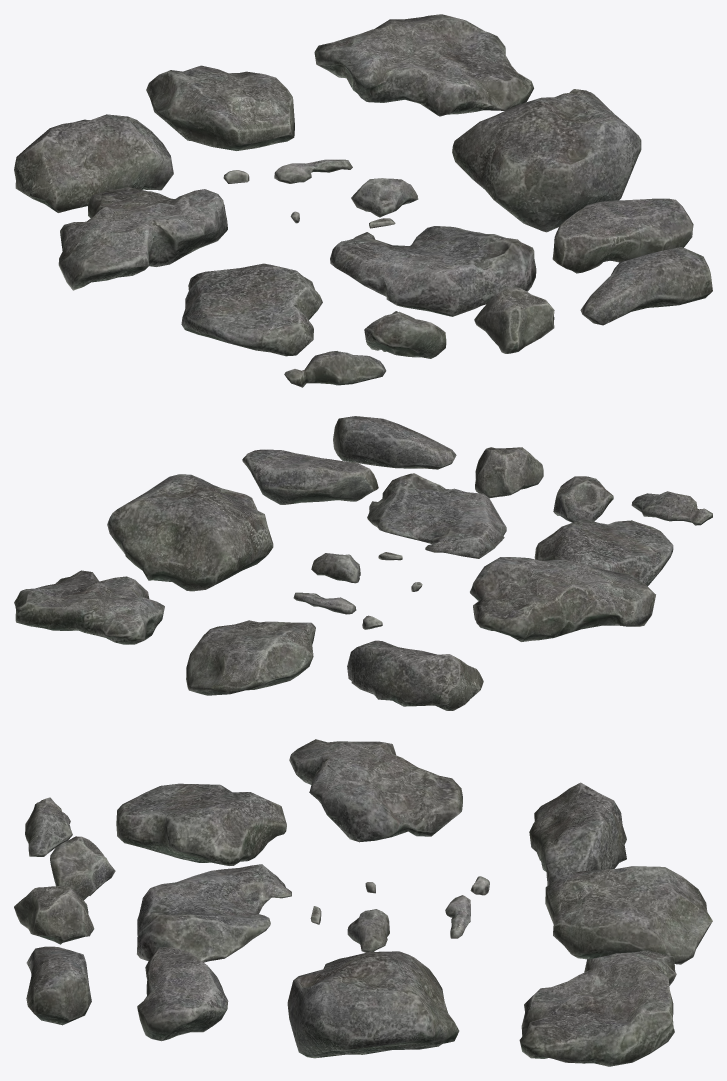
Rendered from rocks.glb.
3 views of the same model, one above another, from view 1: azimuth 30°, elevation 25°; view 2: azimuth 150°, elevation 25°; view 3: azimuth 270°, elevation 25° (orthographic). The views are drawn at different scales.
Parts seen in each view (by area): view 1: Object_4; view 2: Object_4; view 3: Object_4.
Part boxes in pixels (x1,y1,x2,y2): Object_4: [14, 14, 712, 387]; Object_4: [14, 416, 712, 710]; Object_4: [14, 739, 712, 1066].
Bounding box in the file's own units: 1.24 × 0.1979 × 1.31.
1 material, 1 textured.
